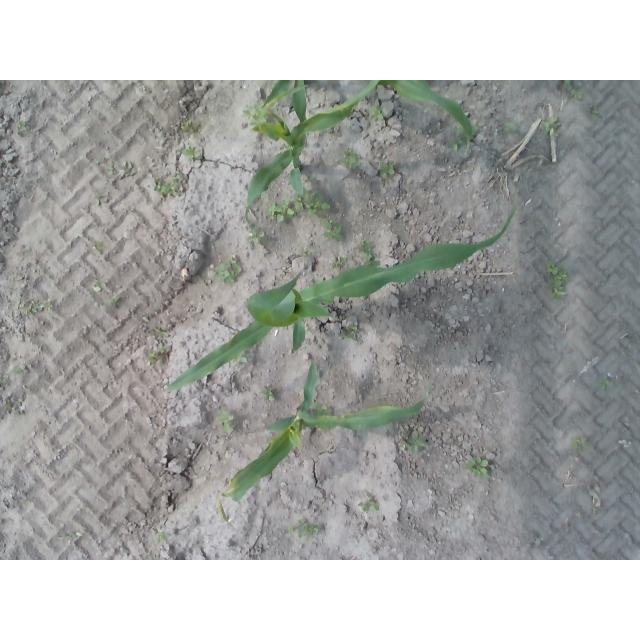Maize: (160, 206, 516, 394), (223, 353, 425, 504), (244, 82, 377, 227), (262, 81, 477, 142)
Weeds: (549, 263, 567, 293), (291, 519, 318, 539), (271, 202, 294, 222), (468, 456, 490, 476), (359, 492, 379, 514), (221, 410, 239, 434), (408, 432, 428, 452), (378, 160, 397, 180), (311, 196, 330, 214), (323, 224, 343, 241), (246, 226, 266, 243), (19, 301, 43, 315), (544, 117, 562, 135), (561, 81, 579, 98), (217, 264, 236, 280), (144, 349, 165, 363), (341, 154, 357, 168), (155, 179, 170, 193), (345, 326, 362, 338), (181, 147, 199, 158), (261, 387, 275, 401), (158, 533, 171, 547), (181, 121, 199, 131), (574, 437, 586, 451), (598, 376, 610, 389), (361, 241, 372, 253), (228, 256, 239, 264)
